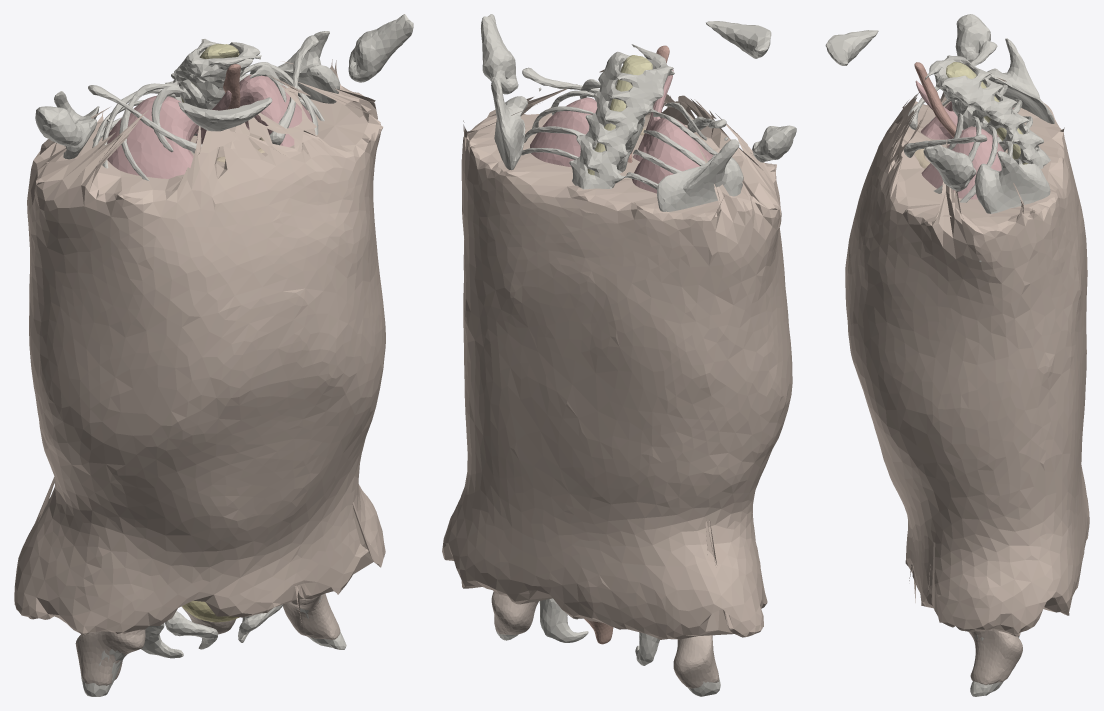
File: peds-toddler.glb
3 renders of one model, left to right at view 1: azimuth 30°, elevation 25°; view 2: azimuth 150°, elevation 25°; view 3: azimuth 270°, elevation 25°, orthographic. The views are drawn at different scales.
Visible parts, largest first — view 1: skin, bones, lung_r, femur_head_r, lung_l, femur_head_l; view 2: skin, bones, lung_r, lung_l, femur_head_r, femur_head_l, spinal_canal; view 3: skin, bones, femur_head_l, lung_l, esophagus, lung_r, spinal_canal.
Boxes of the visible parts, x1=… form: skin: x1=14, y1=59, x2=385, y2=635; bones: x1=35, y1=14, x2=413, y2=696; lung_r: x1=107, y1=90, x2=231, y2=178; femur_head_r: x1=75, y1=629, x2=145, y2=685; lung_l: x1=235, y1=74, x2=312, y2=147; femur_head_l: x1=283, y1=593, x2=340, y2=639; skin: x1=442, y1=69, x2=792, y2=639; bones: x1=481, y1=14, x2=796, y2=696; lung_r: x1=632, y1=69, x2=713, y2=193; lung_l: x1=530, y1=97, x2=597, y2=167; femur_head_r: x1=673, y1=635, x2=718, y2=688; femur_head_l: x1=491, y1=592, x2=538, y2=634; spinal_canal: x1=587, y1=55, x2=652, y2=175; skin: x1=845, y1=77, x2=1089, y2=636; bones: x1=825, y1=14, x2=1054, y2=696; femur_head_l: x1=968, y1=629, x2=1022, y2=685; lung_l: x1=921, y1=126, x2=1004, y2=199; esophagus: x1=914, y1=62, x2=956, y2=137; lung_r: x1=915, y1=80, x2=1013, y2=139; spinal_canal: x1=946, y1=62, x2=1028, y2=164.
Size of the model in its own units: 0.194 by 0.3381 by 0.1413.
